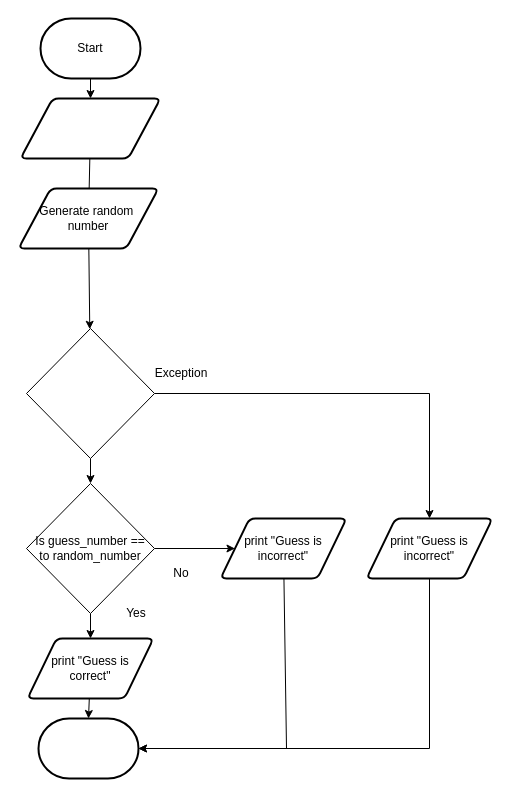
Some shapes in this 510 by 796 pixel diagram are drawn without their labels. Each missing label, with the box of its shape:
Get guess_number: (19, 97, 161, 159)
stop: (37, 717, 139, 779)
Try: (26, 328, 154, 458)
